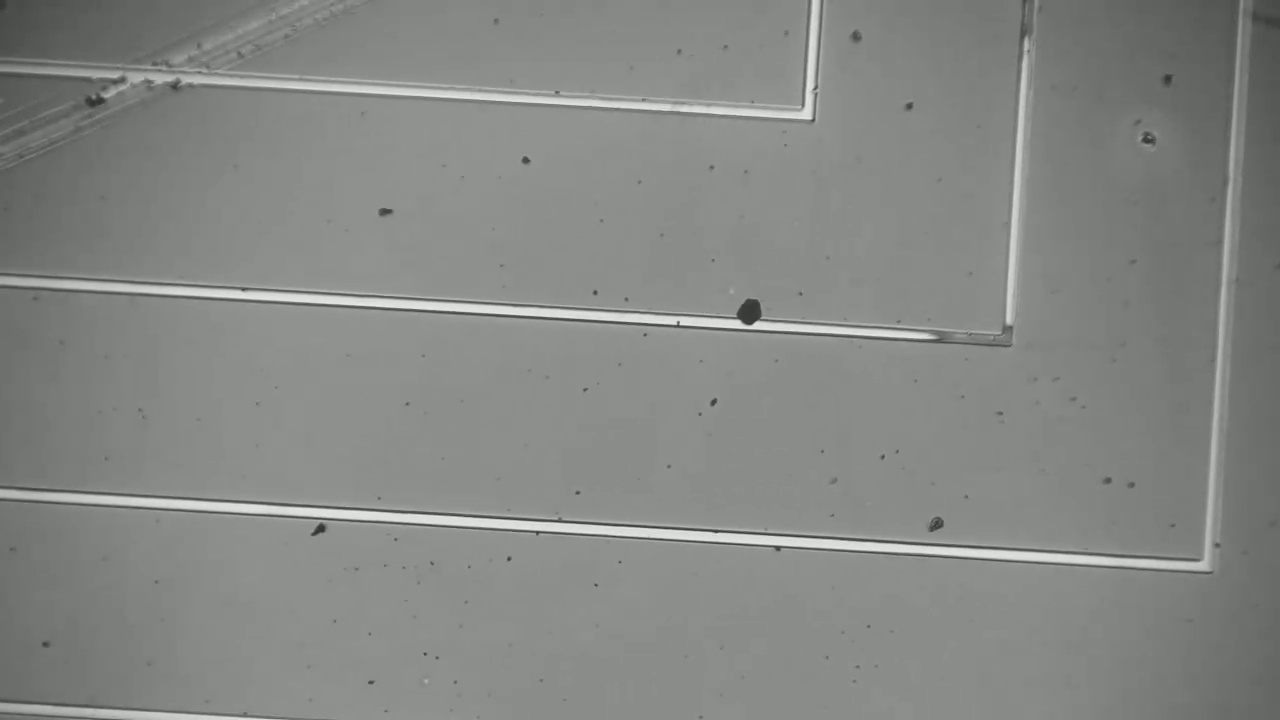edge_bite: (799, 80, 824, 100)
gray_line: (912, 327, 1020, 352), (1008, 1, 1044, 51), (993, 314, 1021, 364)
scratch: (0, 6, 359, 174)
stains_enbedded: (722, 283, 780, 341)
